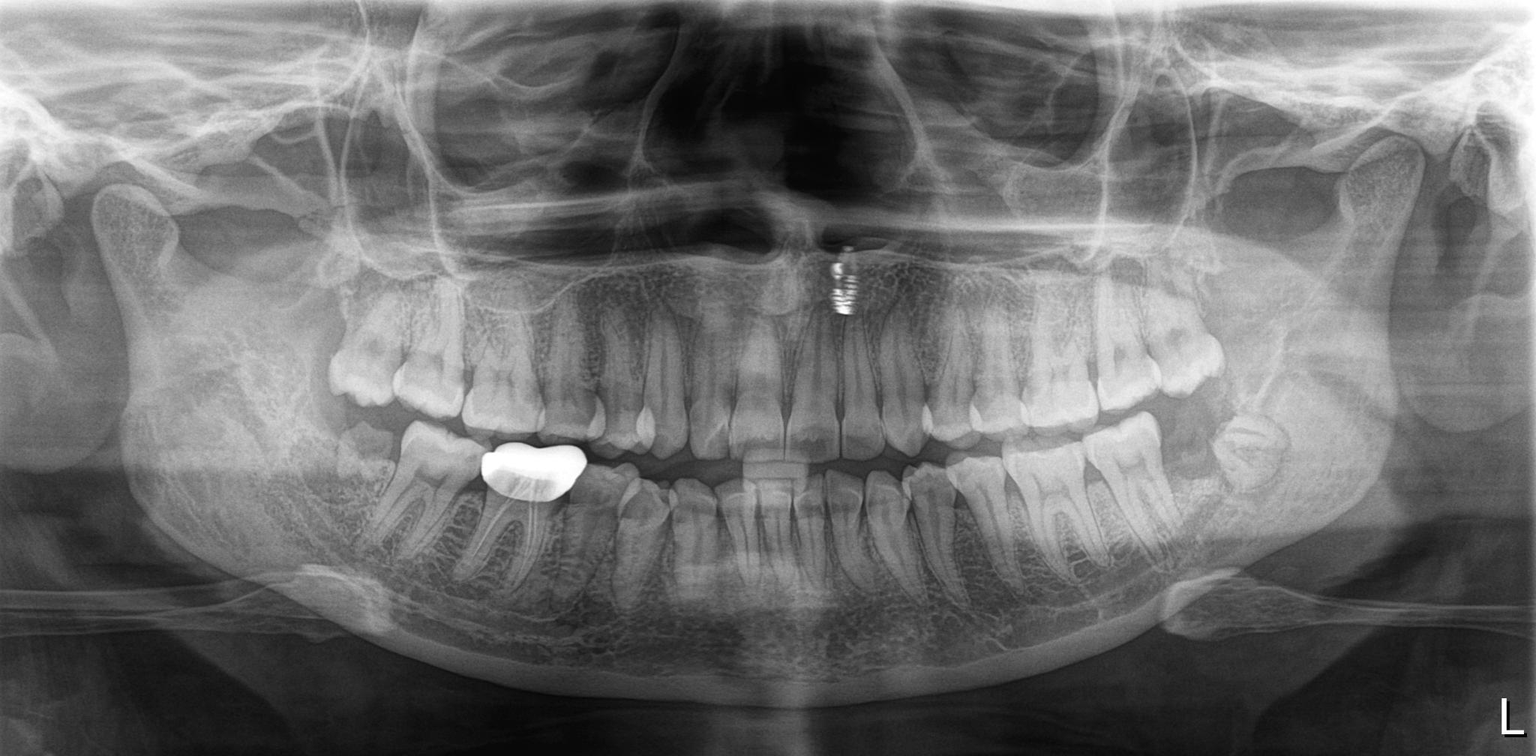Dental Caries: (1159, 326, 1195, 356)
Endodontically Treated Tooth: (481, 446, 574, 594)
Impacted Third Molar: (324, 424, 401, 507), (1221, 428, 1285, 512)
Missing Tooth: (1161, 418, 1222, 537)
